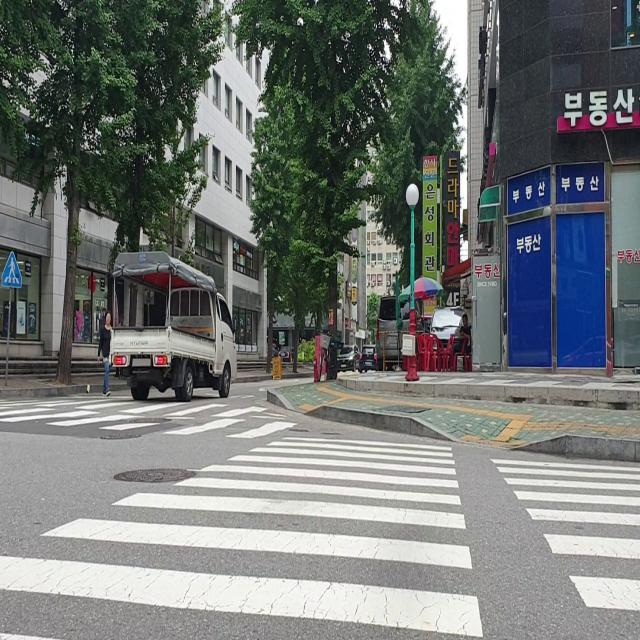횡단보도: (0, 439, 640, 640), (0, 397, 300, 436)
